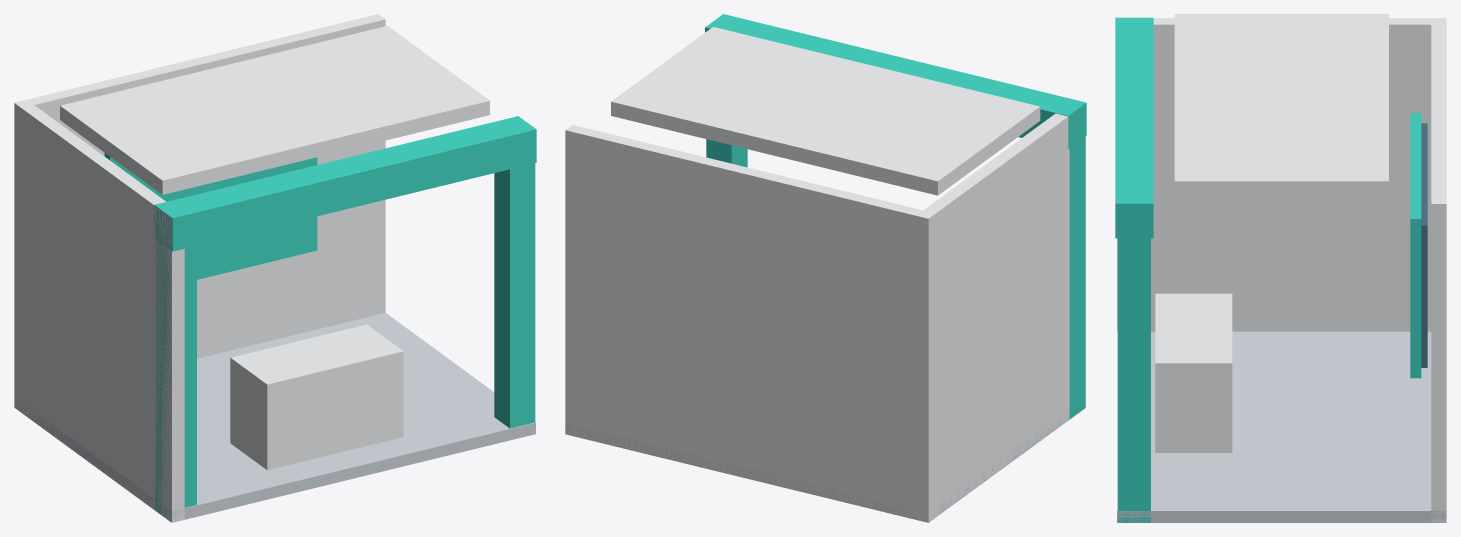
The picture shows the model from 3 angles, left to right: view 1: azimuth 30°, elevation 25°; view 2: azimuth 150°, elevation 25°; view 3: azimuth 270°, elevation 25°; orthographic projection. The views are drawn at different scales.
Visible parts, largest first — view 1: Exhibition Booth Concept; view 2: Exhibition Booth Concept; view 3: Exhibition Booth Concept.
Part boxes in pixels (x1=…): Exhibition Booth Concept: x1=14, y1=14, x2=536, y2=522; Exhibition Booth Concept: x1=565, y1=14, x2=1086, y2=522; Exhibition Booth Concept: x1=1115, y1=14, x2=1446, y2=522.
Bounding box in the file's own units: 4 × 3.34 × 3.01.
